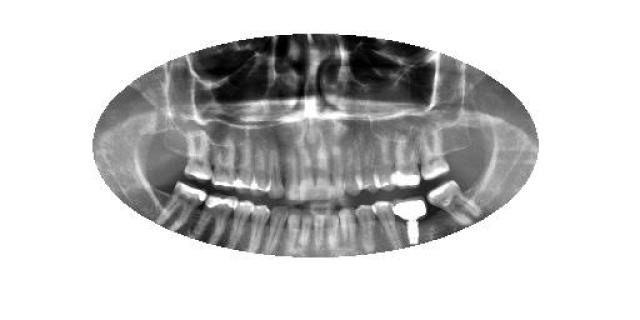Fillings: (156, 181, 208, 231), (190, 194, 238, 245), (391, 138, 421, 188)
Implant: (393, 197, 428, 245)
Restorations: (428, 180, 483, 226)
